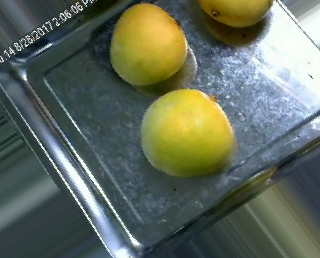Mango: (139, 88, 233, 176), (110, 3, 187, 85), (199, 0, 274, 26)
